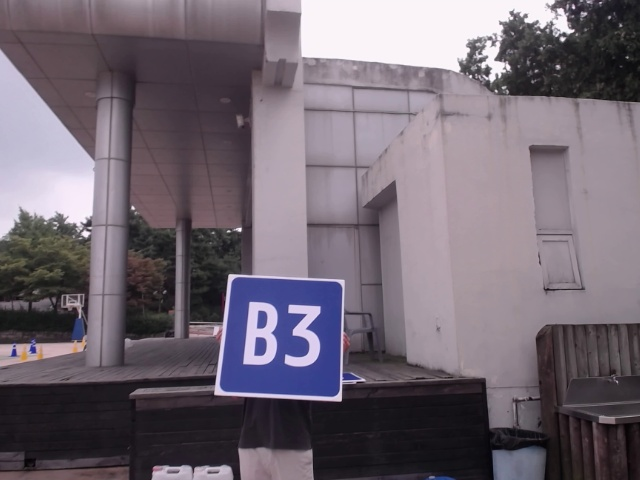delivery_b3: (217, 279, 343, 399)
